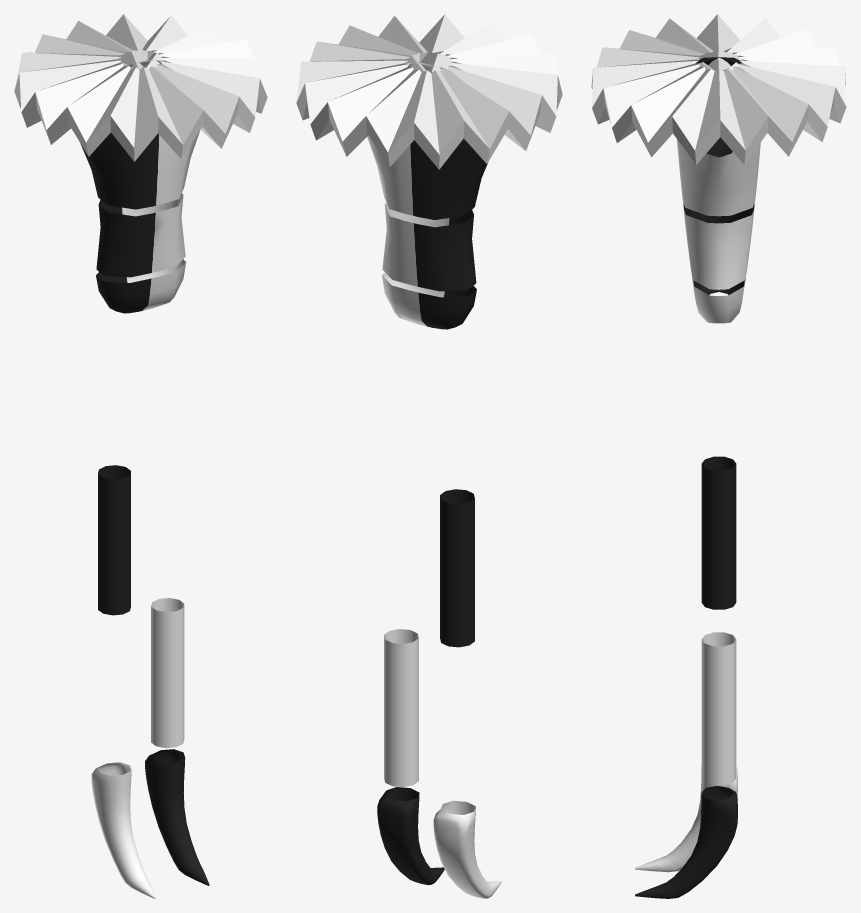
Rendered from Jaakko Body Parts.fbx.
The picture shows the model from 3 angles, left to right: view 1: azimuth 30°, elevation 25°; view 2: azimuth 150°, elevation 25°; view 3: azimuth 270°, elevation 25°; orthographic projection. The views are drawn at different scales.
Visible parts, largest first — view 1: Cube.002, Cube.003, Cube.007, Cube.006, Cube.009, Cube.008, Cube.004; view 2: Cube.002, Cube.003, Cube.007, Cube.006, Cube.008, Cube.009, Cube.004; view 3: Cube.002, Cube.007, Cube.006, Cube.003, Cube.008, Cube.004, Cube.009.
Part boxes in pixels (bbox=[...]): Cube.002: bbox=[14, 14, 267, 209]; Cube.003: bbox=[96, 193, 185, 277]; Cube.007: bbox=[151, 598, 184, 747]; Cube.006: bbox=[98, 465, 130, 615]; Cube.009: bbox=[91, 762, 155, 898]; Cube.008: bbox=[145, 749, 209, 885]; Cube.004: bbox=[96, 259, 186, 313]; Cube.002: bbox=[296, 14, 562, 219]; Cube.003: bbox=[382, 203, 476, 291]; Cube.007: bbox=[384, 629, 418, 787]; Cube.006: bbox=[440, 489, 474, 647]; Cube.008: bbox=[377, 787, 444, 885]; Cube.009: bbox=[433, 800, 501, 898]; Cube.004: bbox=[382, 272, 476, 329]; Cube.002: bbox=[591, 14, 846, 216]; Cube.007: bbox=[701, 632, 736, 785]; Cube.006: bbox=[701, 456, 736, 609]; Cube.003: bbox=[683, 203, 754, 289]; Cube.008: bbox=[635, 786, 737, 898]; Cube.004: bbox=[692, 277, 745, 323]; Cube.009: bbox=[635, 766, 737, 872].
Bounding box in the file's own units: 51.52 × 183 × 51.52.
